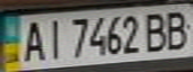2: (121, 11, 145, 55)
4: (87, 14, 109, 57)
6: (106, 12, 127, 56)
7: (66, 15, 90, 60)
A: (18, 17, 48, 63)
B: (160, 8, 193, 52), (142, 9, 172, 53)
I: (42, 16, 66, 61)
